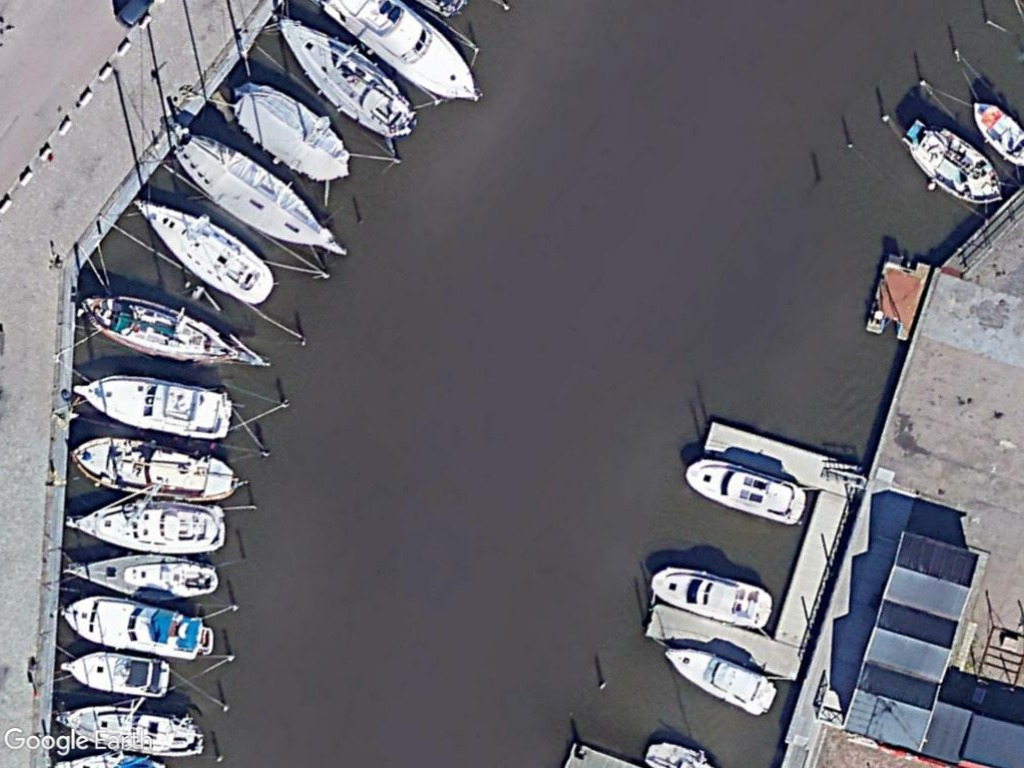boat: (169, 127, 349, 261), (269, 10, 424, 145), (130, 192, 281, 311), (77, 293, 275, 377), (228, 76, 356, 188), (67, 427, 244, 503), (67, 366, 233, 440), (60, 589, 206, 661), (679, 456, 810, 536), (66, 493, 227, 558), (646, 562, 776, 638), (660, 644, 783, 720), (51, 697, 204, 758), (902, 118, 1006, 207), (59, 548, 220, 601), (54, 645, 172, 701)
